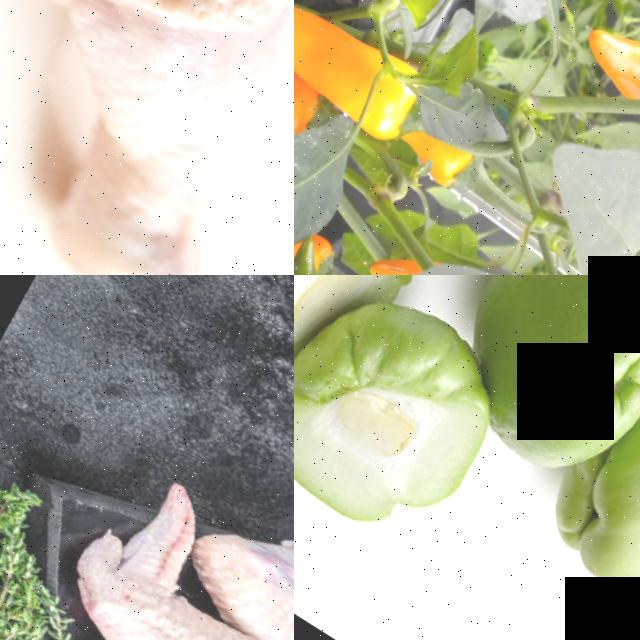chayote: (294, 275, 552, 624), (457, 275, 640, 482), (560, 275, 640, 640), (294, 275, 440, 454)
chicken thigh: (0, 0, 294, 275)
chicken wing: (18, 454, 294, 640)
chilli: (294, 0, 439, 150), (569, 0, 640, 112)
